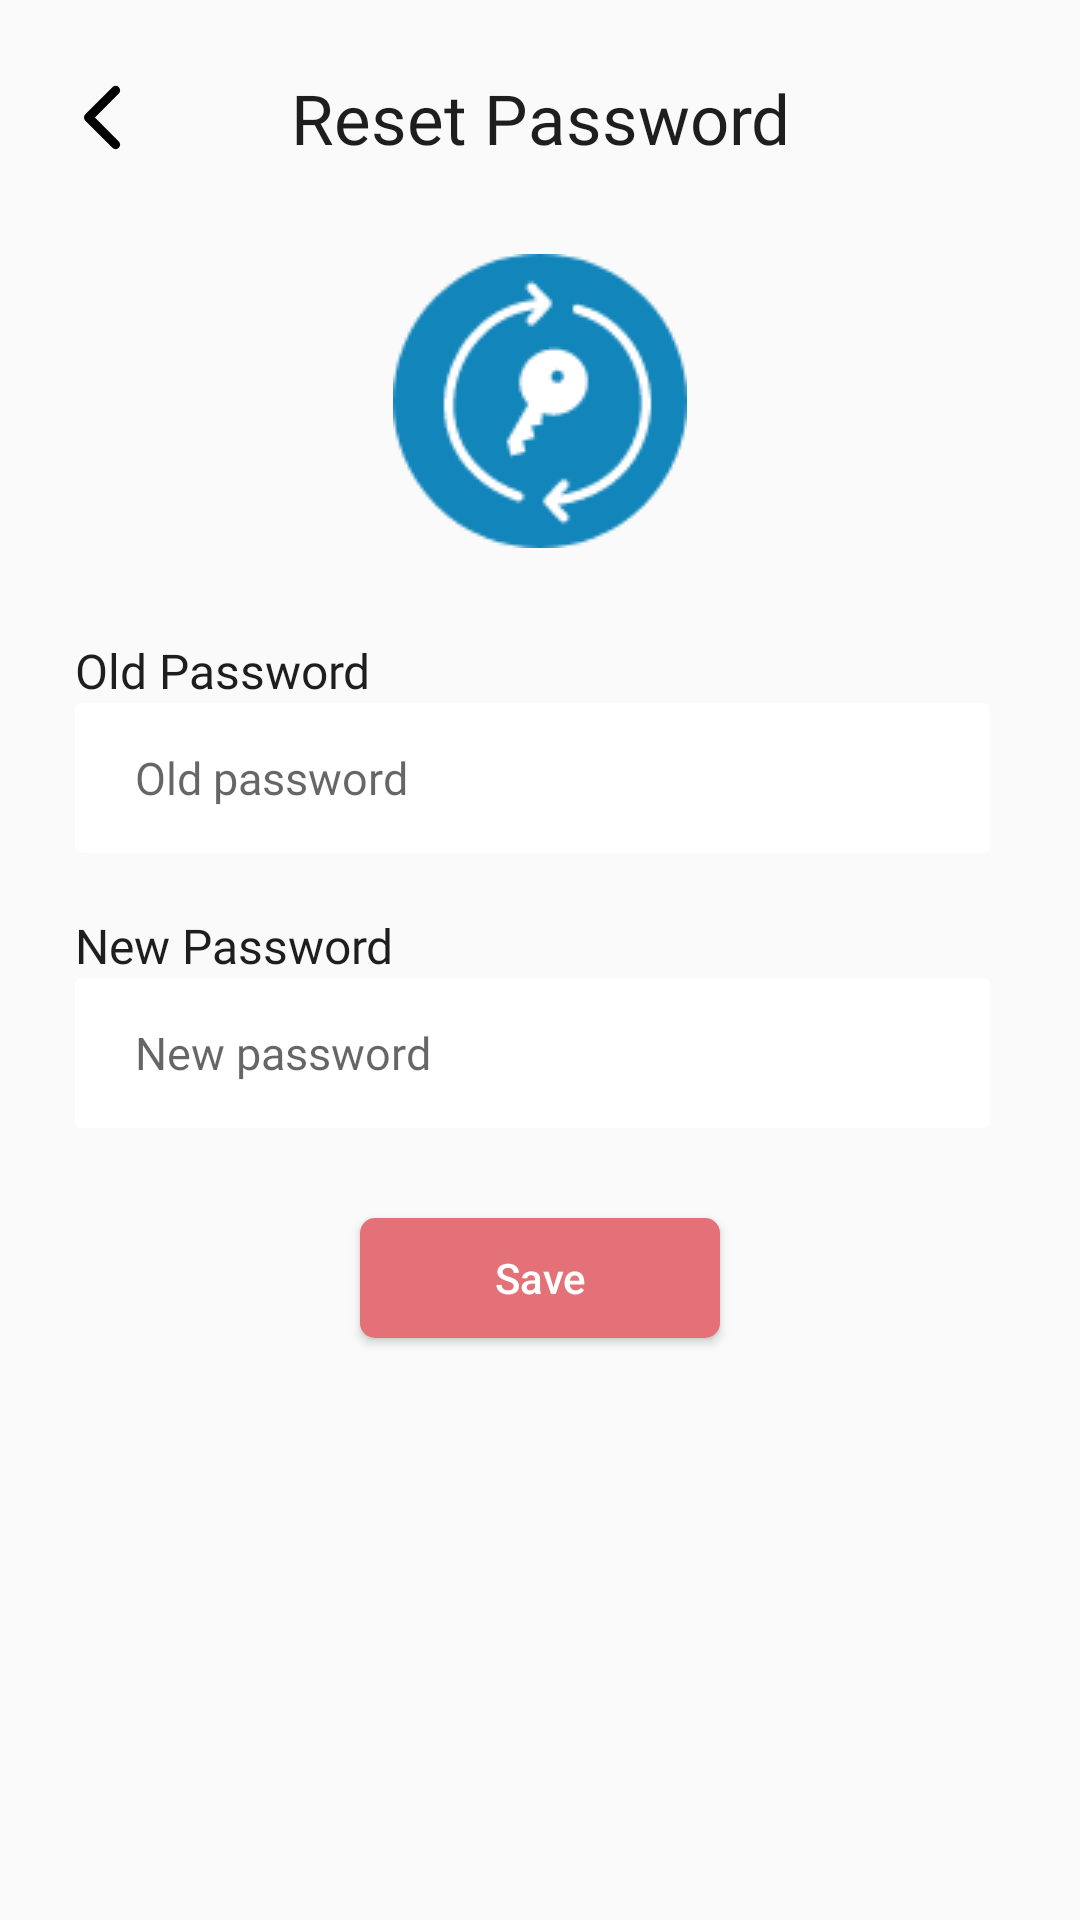

Where to tap for icons on this 1080w x 1920h app screen, as (x=x, y=y):
back: (x=102, y=117)
